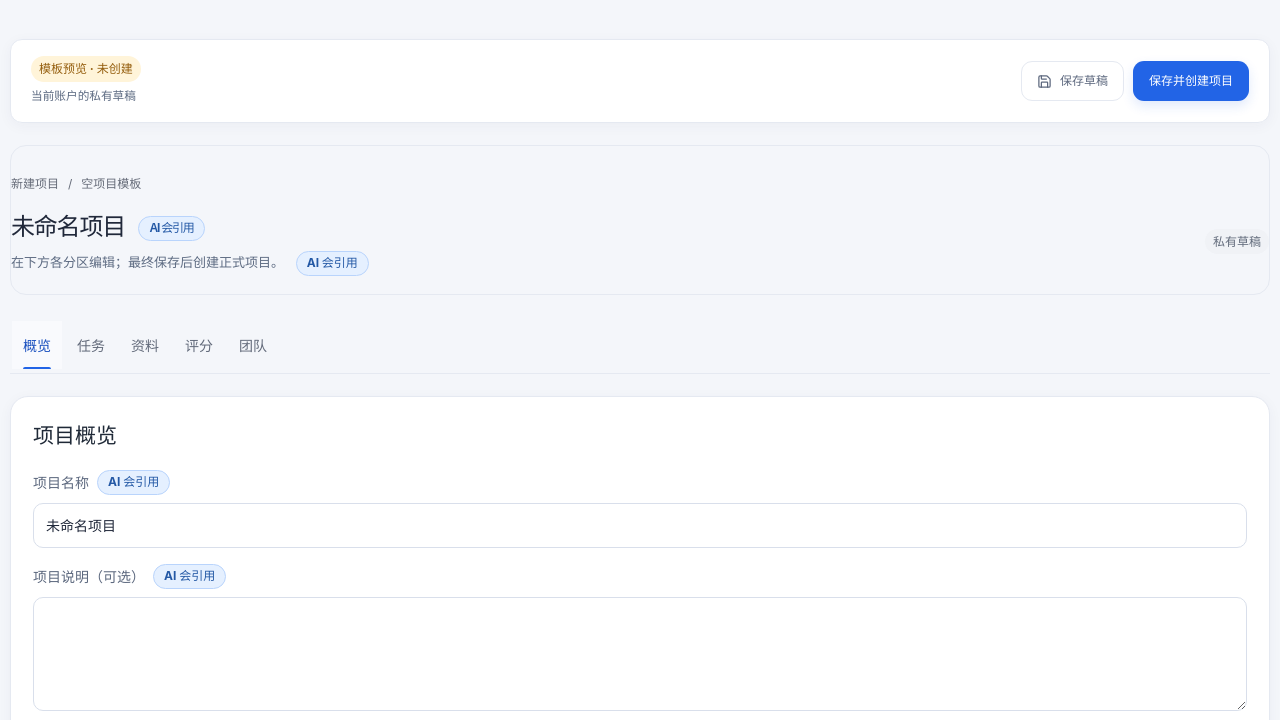
Scenario: retains all local inputs on a CAS conflict and prevents a premature formal commit
The width and height of the screenshot is (1280, 720).
Expected: the text "模板预览 · 未创建" is shown, [31,56,141,82]
Replace the text in the field labelled "项目名称" with "保留本地名称" at (640, 525), box [33,503,1247,548]
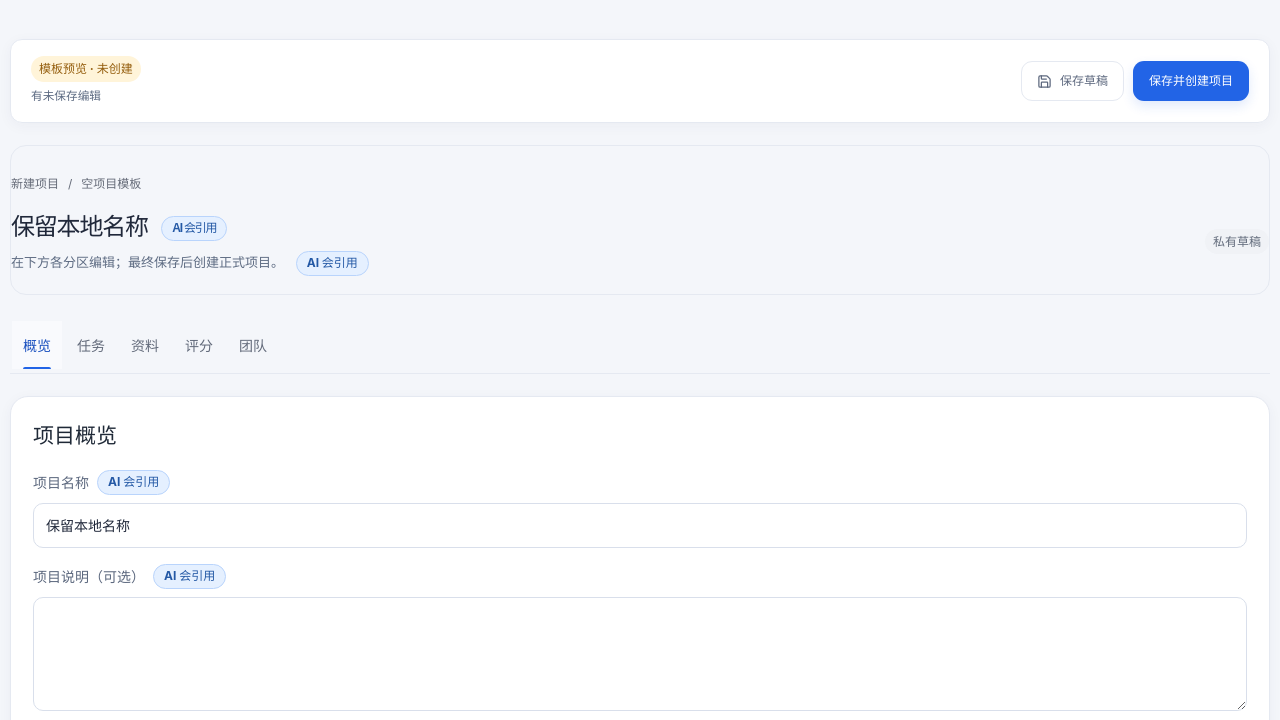
Click the button "保存并创建项目".
click(1191, 81)  # box [1133,61,1249,101]
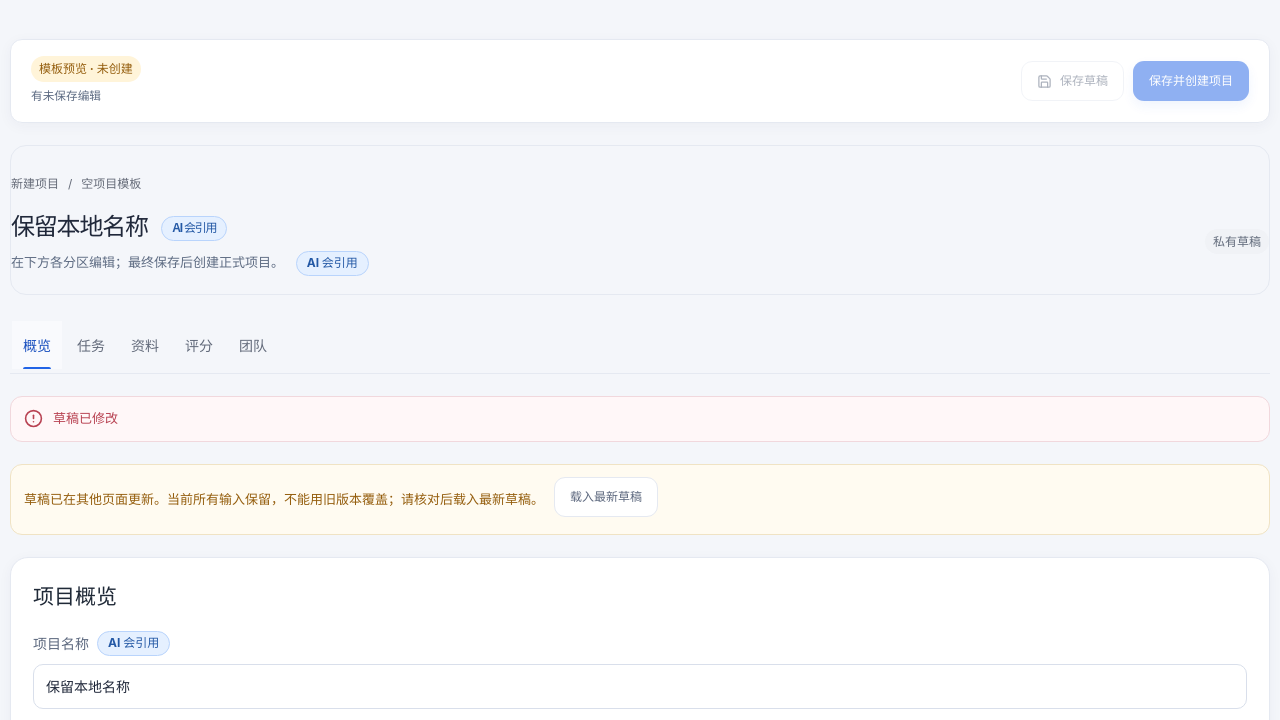
Now the text "草稿已在其他页面更新。当前所有输入保留，不能用旧版本覆盖；请核对后载入最新草稿。" is shown, box [24,490,544,509]
Now the button "保存并创建项目" is disabled, box [1133,61,1249,101]
